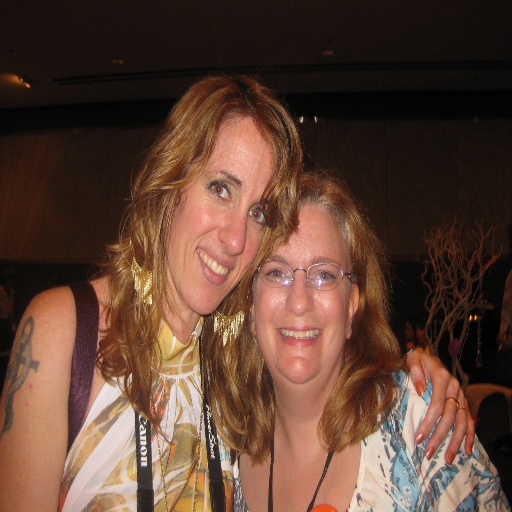hand: (403, 345, 481, 481)
